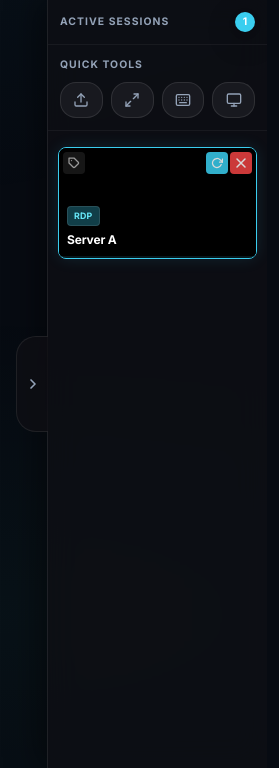
Test: SessionBar › shows keyboard shortcuts panel when keyboard button clicked
Click the button titled "Keyboard Shortcuts". click: (183, 100)
box: [162,82,204,118]
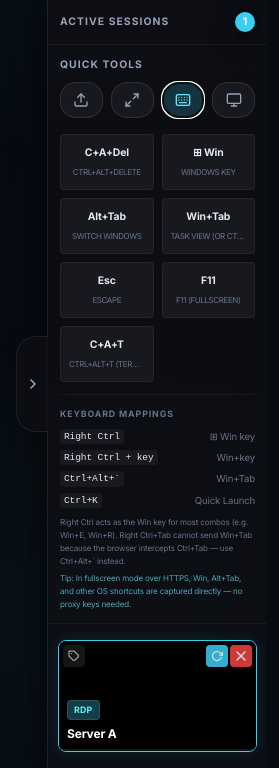
expect the text "C+A+Del" is shown: met, box [85,145,129,162]
expect the text "Alt+Tab" is shown: met, box [88,209,126,226]
expect the text "Esc" is shown: met, box [98,273,116,290]
